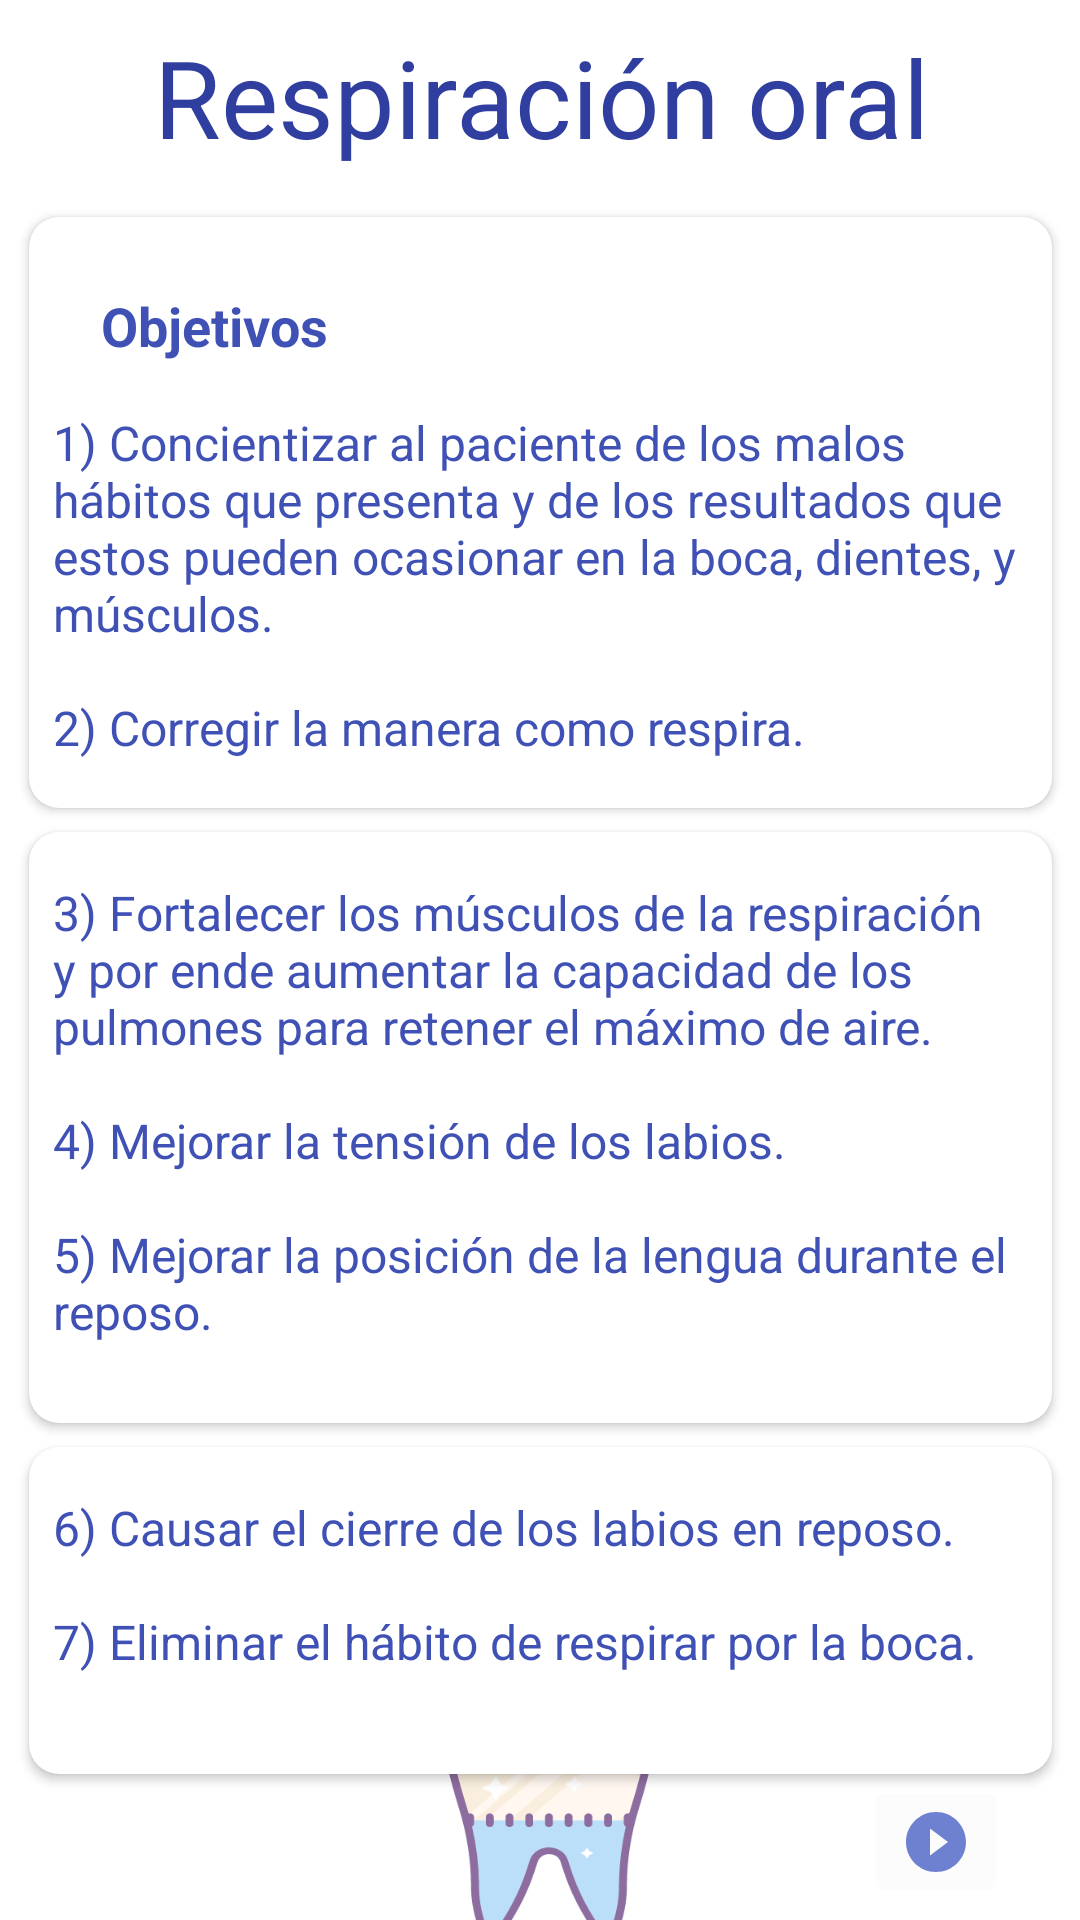

Named icons in this screenshot (1080×1920) and their centers, (x,y):
play circle: (936,1842)
